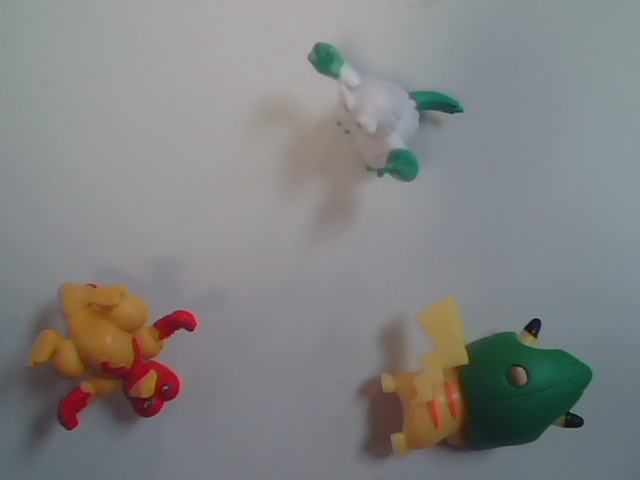abomasnow: (281, 20, 477, 225)
magmar: (15, 247, 244, 451)
pikachu: (376, 255, 605, 480)
